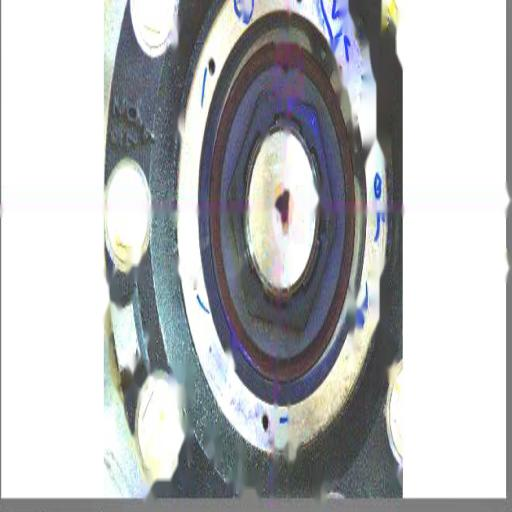center: (272, 194, 285, 221)
notch: (278, 61, 290, 83)
